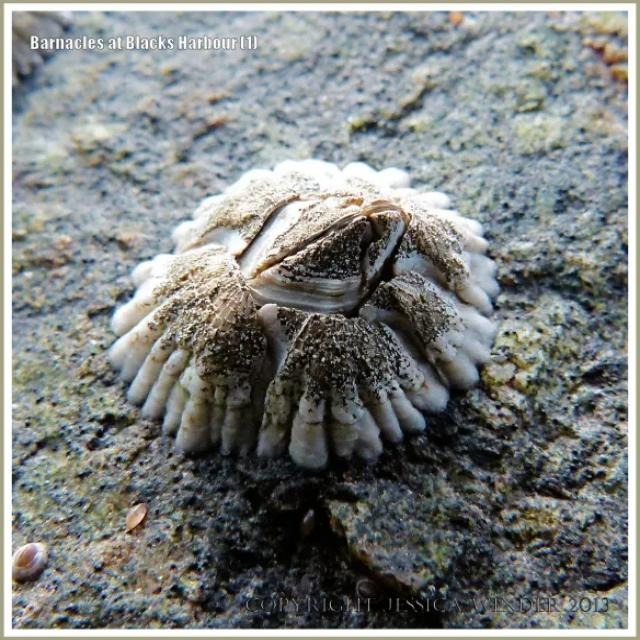barnacles: (122, 159, 511, 457)
